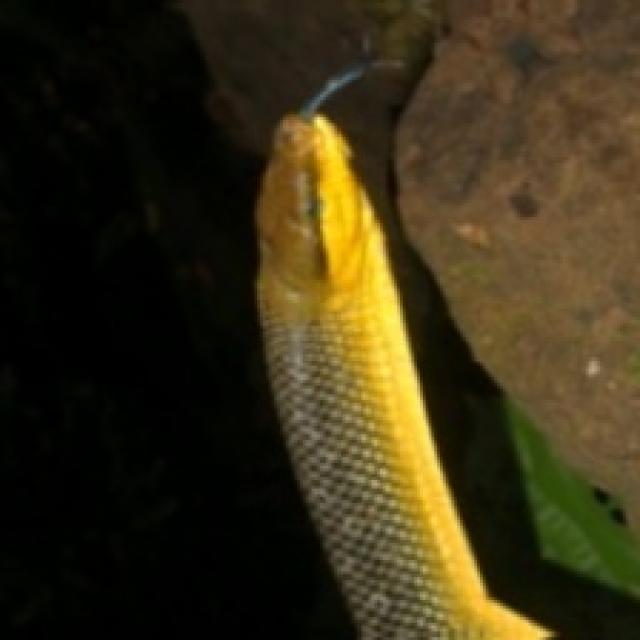red-tailed green ratsnake: (257, 114, 549, 637)
